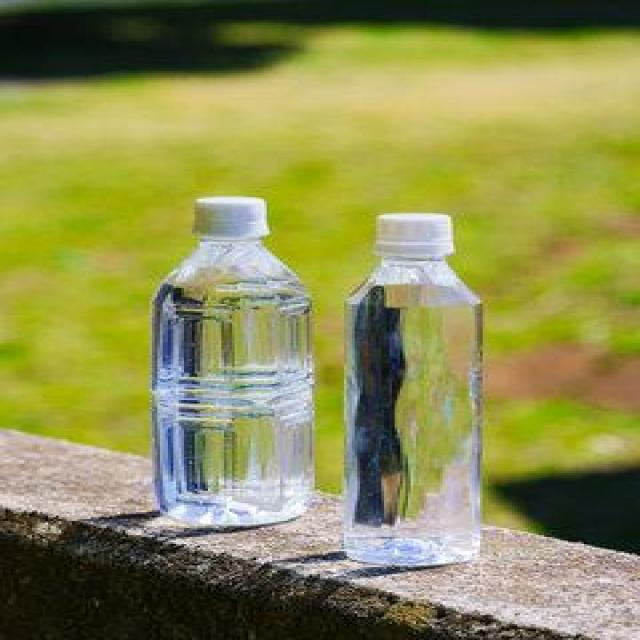bottle: (322, 205, 498, 580), (138, 188, 330, 530)
